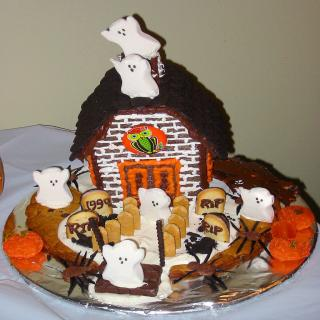Cake: (27, 15, 303, 296)
Cookie: (22, 184, 279, 279)
